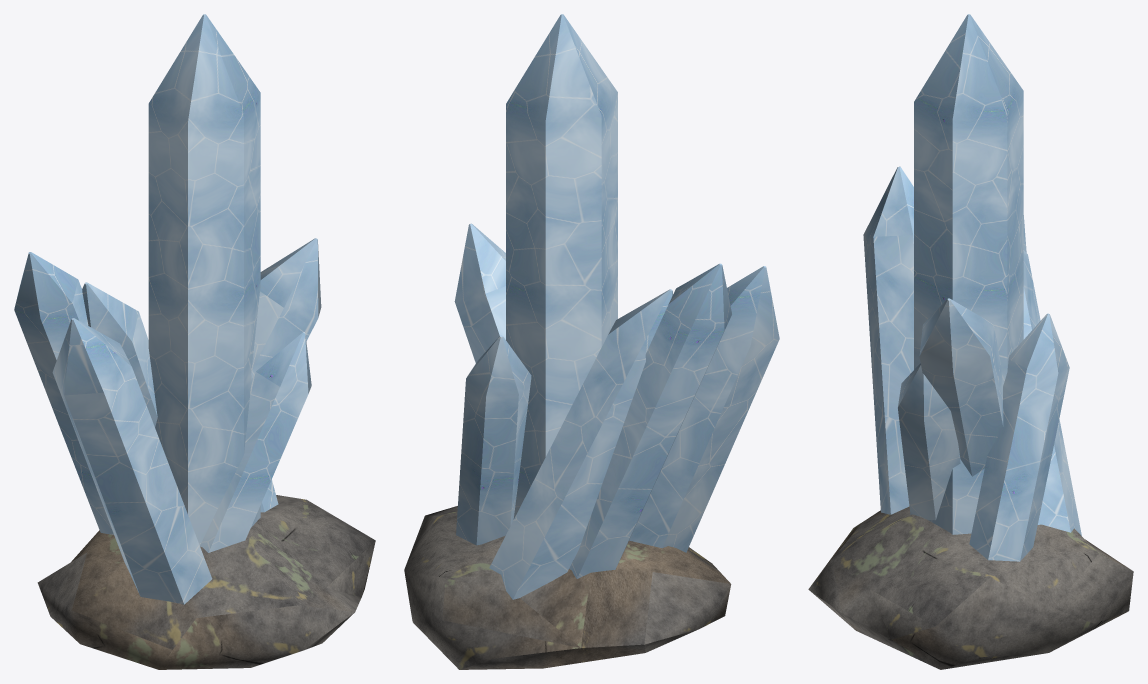
File: ENV_Crystal_Spire.fbx
3 renders of one model, left to right at view 1: azimuth 30°, elevation 25°; view 2: azimuth 150°, elevation 25°; view 3: azimuth 270°, elevation 25°, orthographic. The views are drawn at different scales.
Visible parts, largest first — view 1: ENV_Crystal_Spire; view 2: ENV_Crystal_Spire; view 3: ENV_Crystal_Spire.
Boxes of the visible parts, left/top/right/bottom form: ENV_Crystal_Spire: left=14, top=14, right=375, bottom=669; ENV_Crystal_Spire: left=404, top=14, right=779, bottom=669; ENV_Crystal_Spire: left=808, top=14, right=1133, bottom=669.
Size of the model in its own units: 0.9556 by 1.65 by 0.827.
